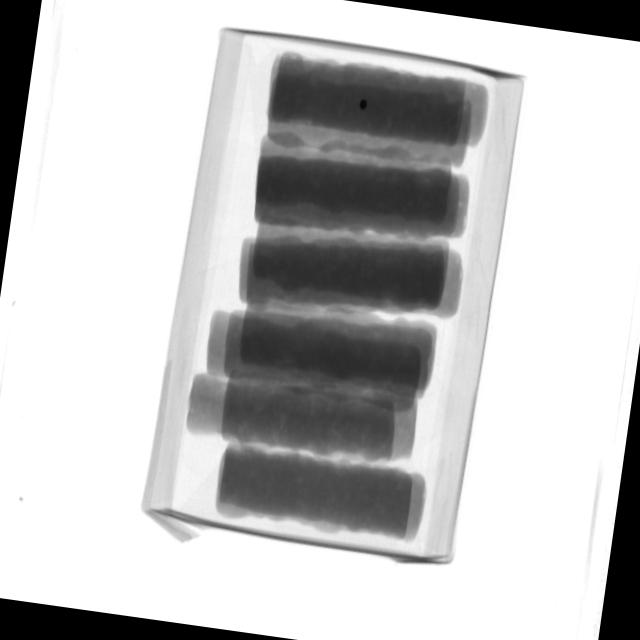ym: (359, 101, 368, 111)
